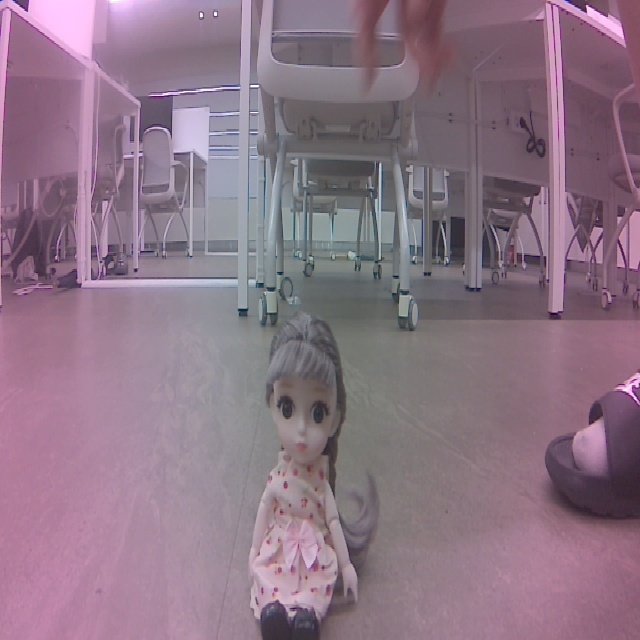장애물: (223, 315, 392, 640)
